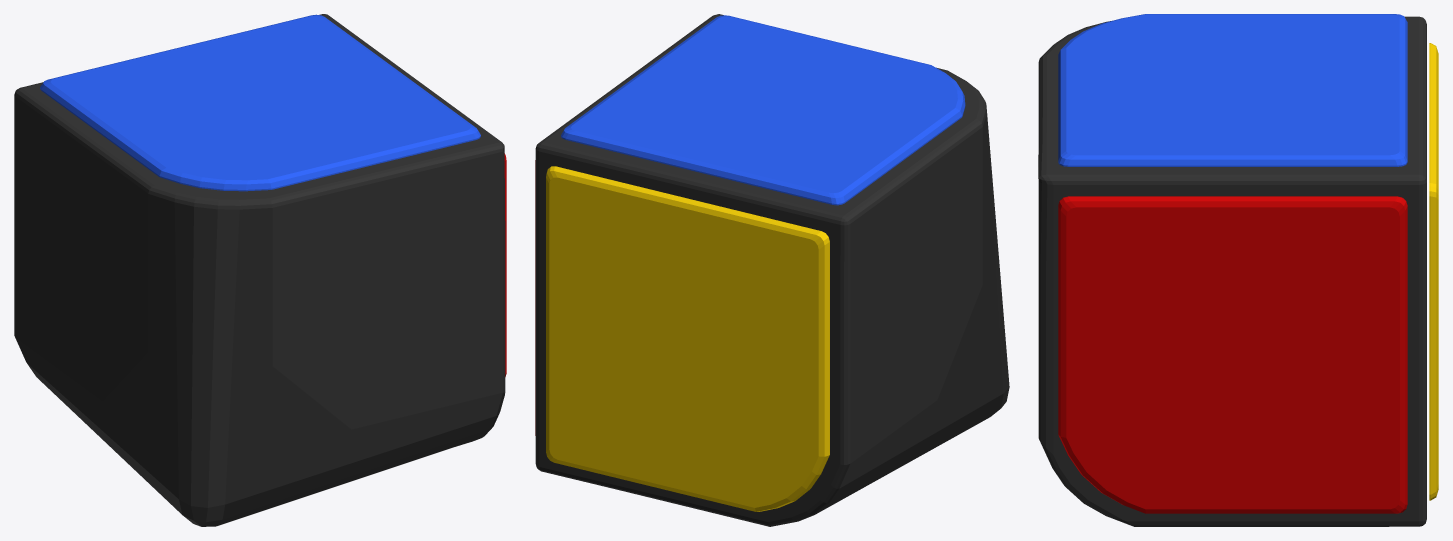
3 views of the same model, side by side, from view 1: azimuth 30°, elevation 25°; view 2: azimuth 150°, elevation 25°; view 3: azimuth 270°, elevation 25° (orthographic). The views are drawn at different scales.
Parts seen in each view (by area): view 1: Cube.015, Cube.065; view 2: Cube.085, Cube.015, Cube.065; view 3: Cube.035, Cube.065, Cube.015, Cube.085.
Part boxes in pixels (left/top/right/bottom): Cube.015: left=14, top=14, right=505, bottom=526; Cube.065: left=40, top=14, right=480, bottom=191; Cube.085: left=546, top=166, right=829, bottom=511; Cube.015: left=535, top=14, right=1009, bottom=526; Cube.065: left=561, top=15, right=965, bottom=205; Cube.035: left=1058, top=196, right=1407, bottom=513; Cube.065: left=1058, top=14, right=1407, bottom=166; Cube.015: left=1038, top=16, right=1426, bottom=526; Cube.085: left=1429, top=43, right=1438, bottom=500.
Size of the model in its own units: 206 by 206 by 206.
